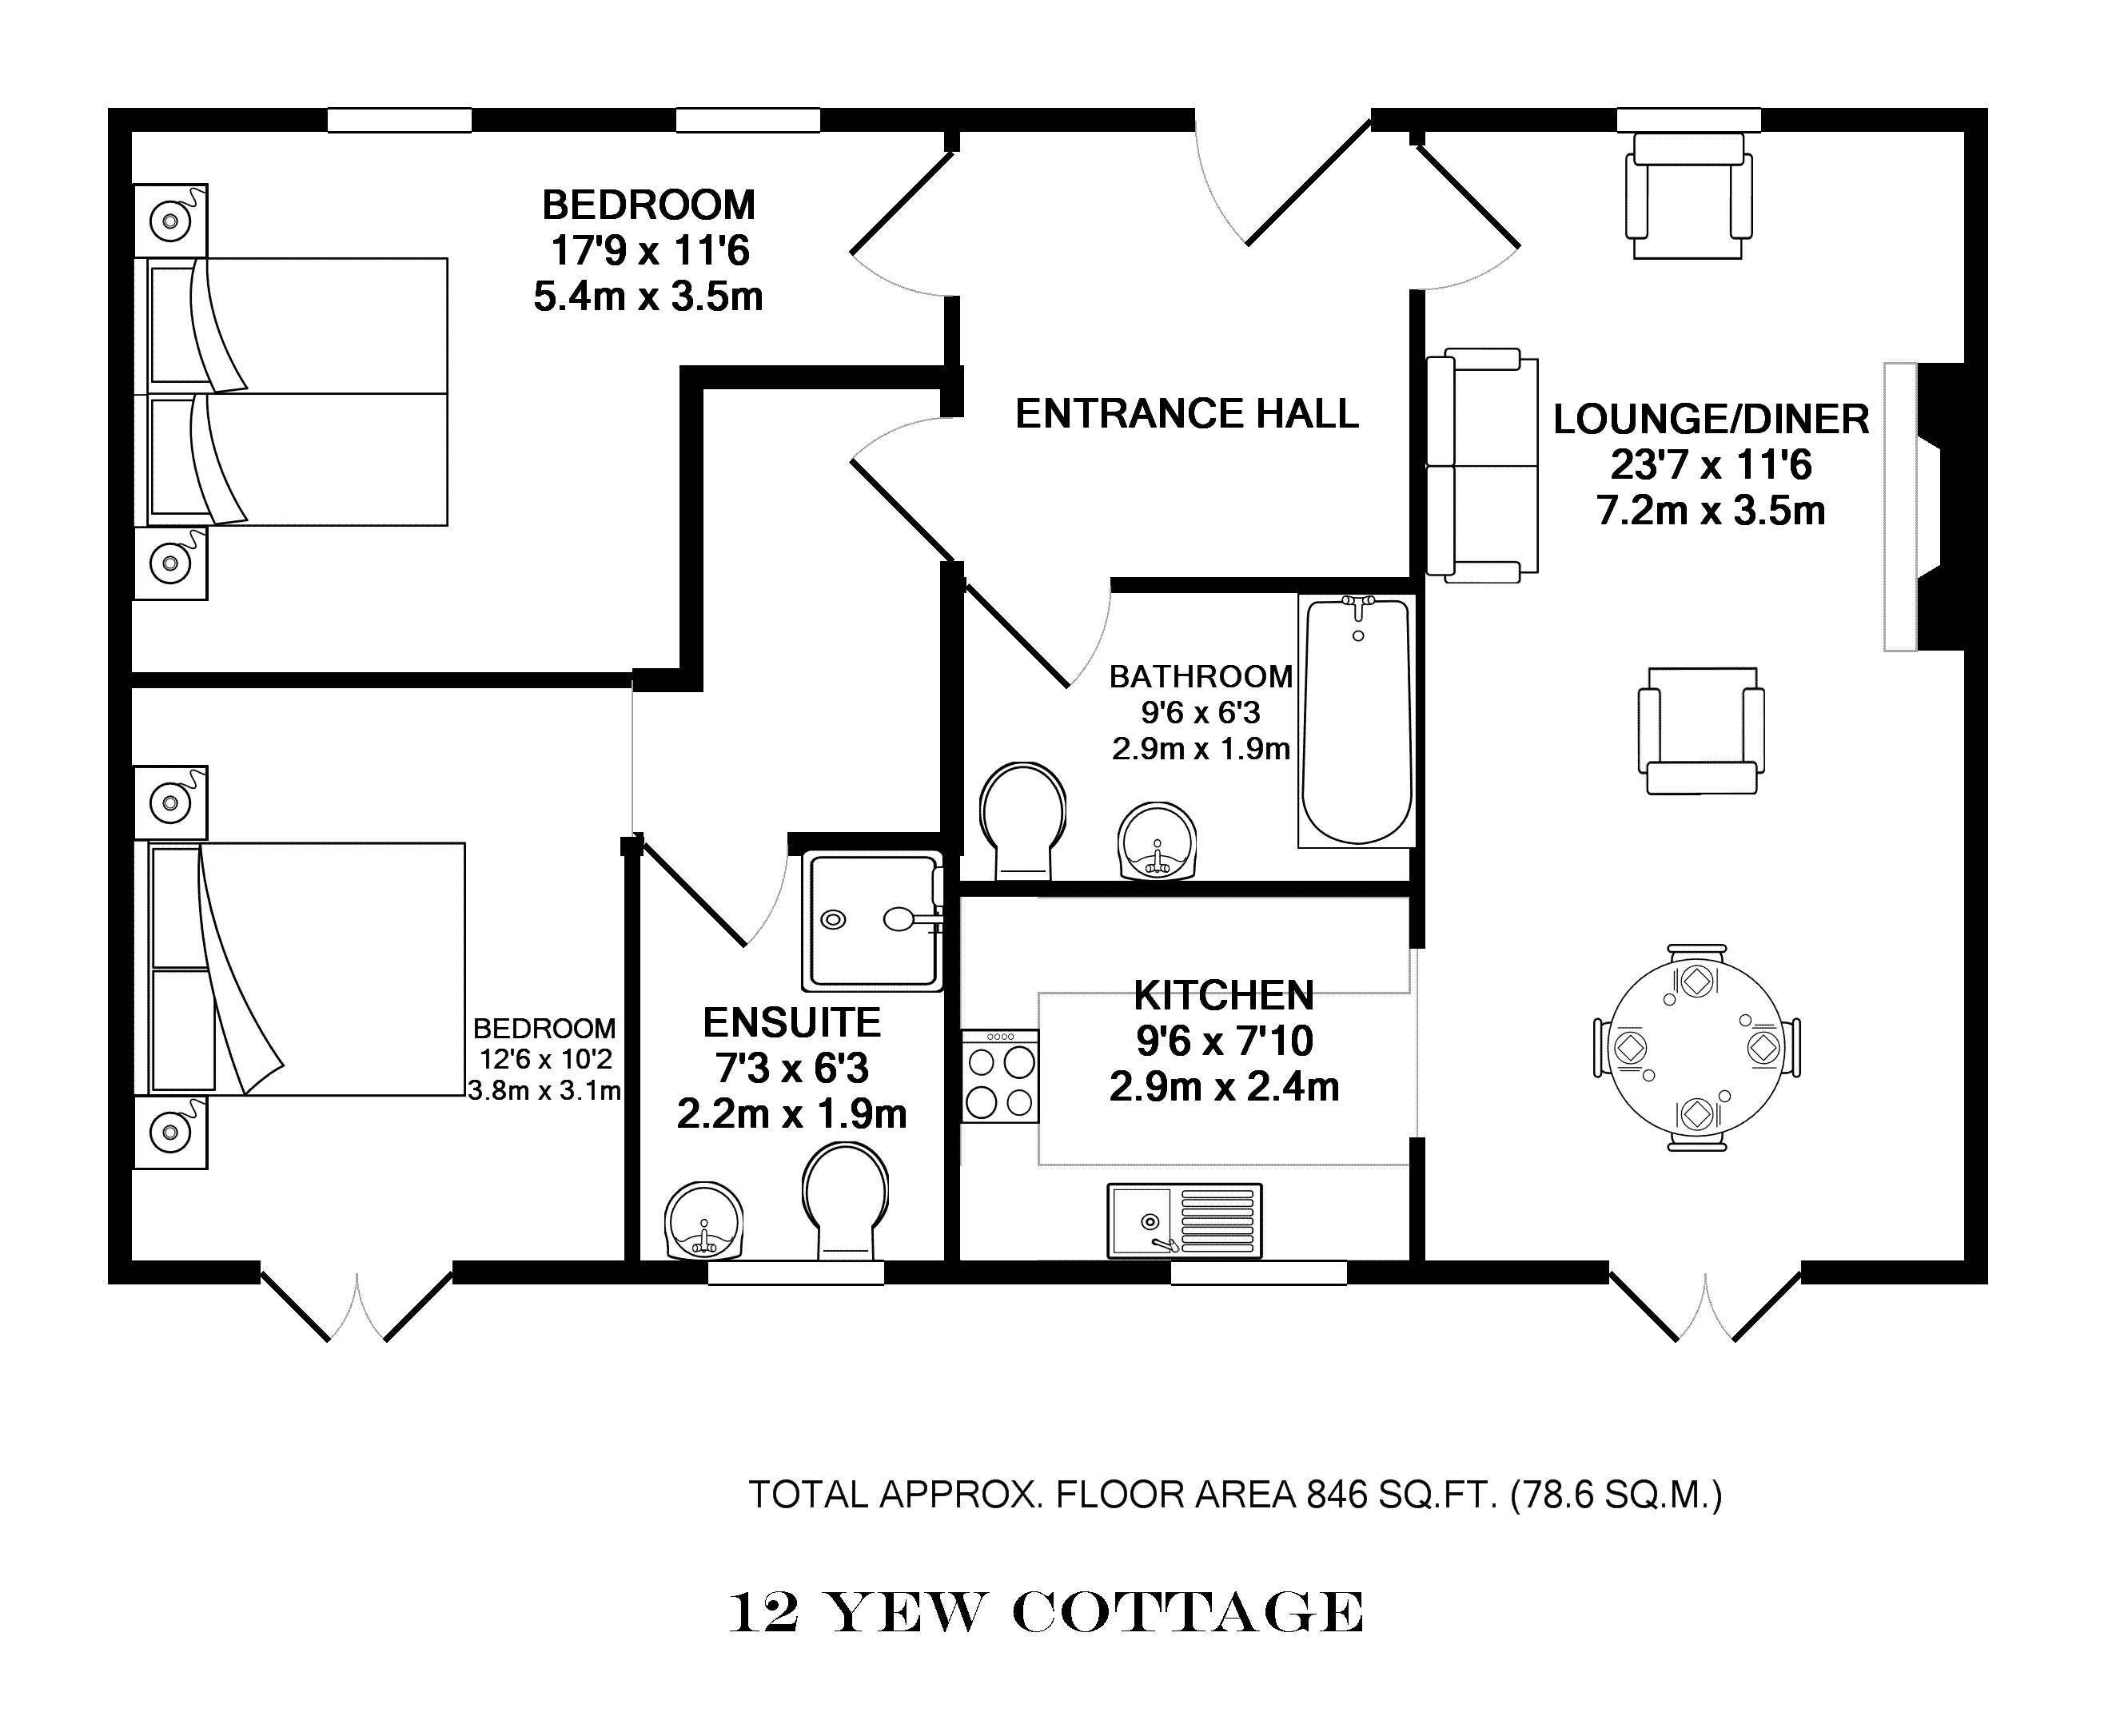wall: (1974, 108, 1994, 1264), (1934, 364, 1990, 649), (108, 111, 133, 691), (1974, 643, 1990, 1248), (115, 728, 131, 1291), (1356, 1257, 1610, 1289), (143, 674, 702, 688), (449, 1259, 719, 1283), (832, 108, 1204, 126), (631, 841, 645, 1283), (1962, 138, 1988, 366), (1384, 110, 1619, 134), (723, 364, 961, 387), (159, 108, 345, 136), (1762, 111, 2001, 133), (1113, 578, 1426, 594), (680, 368, 696, 675), (477, 108, 682, 131), (790, 831, 961, 857), (977, 884, 1432, 893), (1409, 286, 1421, 578), (970, 1268, 1181, 1282), (1812, 1268, 1994, 1282), (875, 1257, 951, 1285), (951, 567, 958, 850), (939, 292, 967, 359), (1412, 1140, 1419, 1278)
